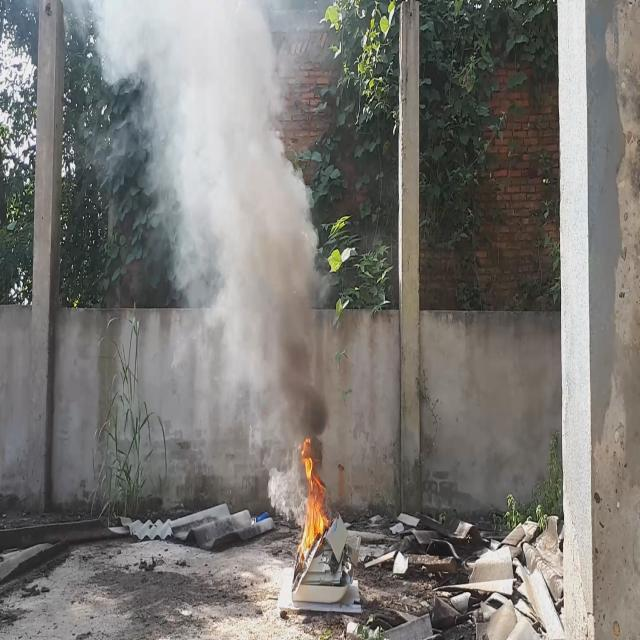Fire: (297, 430, 330, 563)
Smoke: (92, 0, 330, 474)
